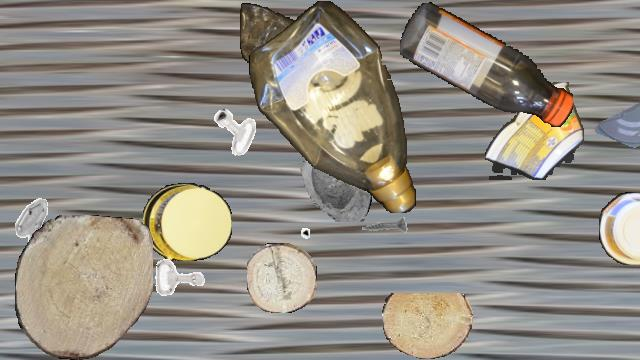glass: (285, 132, 375, 222), (595, 93, 640, 161)
metal: (149, 247, 211, 309), (1, 196, 61, 256), (357, 204, 409, 256), (260, 199, 310, 249), (211, 107, 259, 155)
plastic: (249, 1, 417, 213), (400, 1, 572, 129), (485, 82, 583, 180), (143, 183, 231, 261), (240, 1, 314, 71), (599, 192, 640, 264)
wood: (15, 215, 153, 359), (382, 293, 472, 359), (247, 243, 317, 313)
